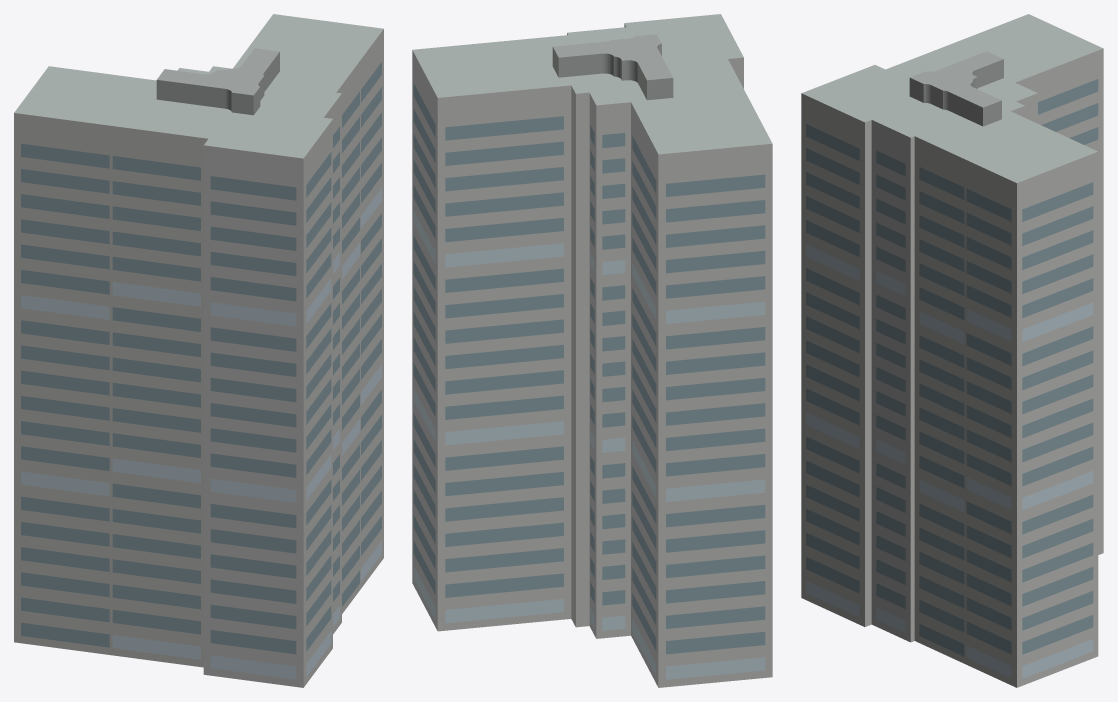
File: fallback-gaepo-xi-presidence-413.glb
The picture shows the model from 3 angles, left to right: view 1: azimuth 30°, elevation 25°; view 2: azimuth 150°, elevation 25°; view 3: azimuth 270°, elevation 25°; orthographic projection. The views are drawn at different scales.
Parts seen in each view (by area): view 1: fallback-gaepo-xi-presidence-413; view 2: fallback-gaepo-xi-presidence-413; view 3: fallback-gaepo-xi-presidence-413.
Boxes of the visible parts, x1=… form: fallback-gaepo-xi-presidence-413: x1=14, y1=14, x2=383, y2=687; fallback-gaepo-xi-presidence-413: x1=412, y1=14, x2=772, y2=687; fallback-gaepo-xi-presidence-413: x1=801, y1=14, x2=1103, y2=687.
Bounding box in the file's own units: 46.05 × 66.45 × 34.73.
